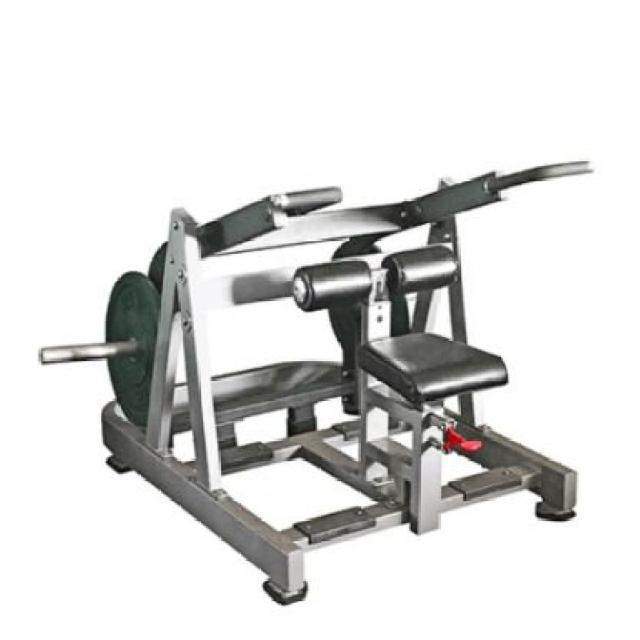seated dip machine: (40, 159, 595, 603)
